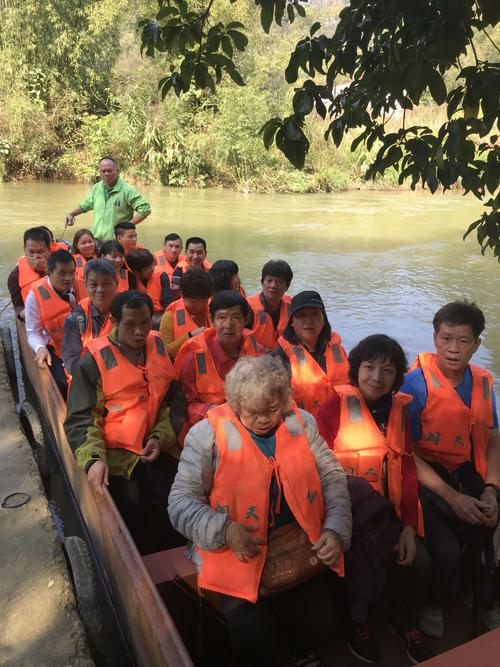other_clothes: (89, 177, 140, 243)
reflective_clothes: (191, 396, 341, 601), (332, 376, 418, 543), (78, 325, 176, 461), (409, 337, 495, 489), (177, 328, 265, 415), (276, 328, 350, 410), (28, 271, 89, 352), (166, 296, 225, 354), (248, 288, 297, 347), (12, 253, 55, 307), (72, 295, 117, 346), (132, 268, 166, 311), (154, 250, 188, 276), (172, 260, 213, 281)
